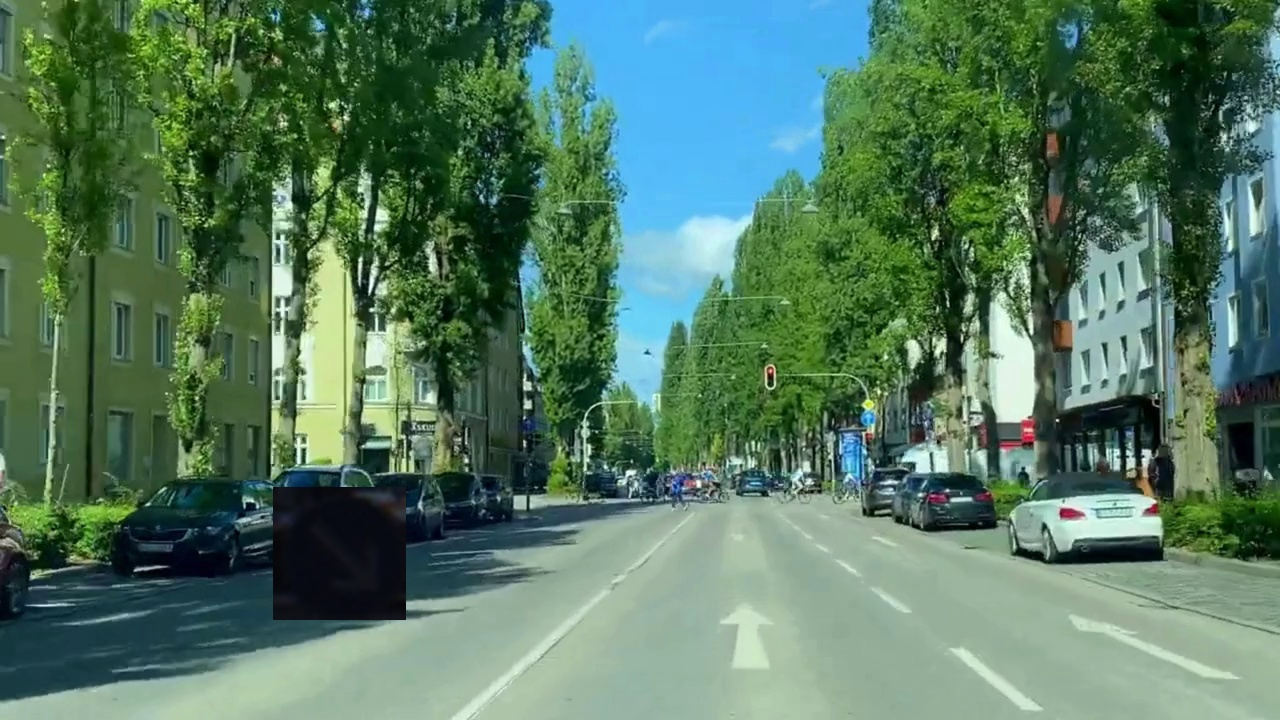Keep right: (273, 487, 406, 620)
